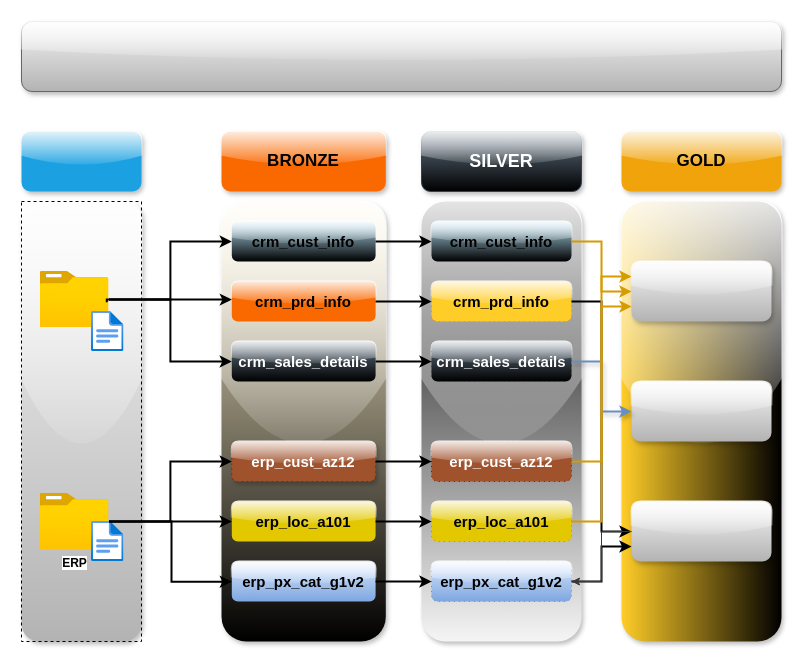
This 805x666 diagram has some shape labels left out. The shapes that lost their labels are listed below. From the top down, each one's centre as x and y in pixels, then its label:
At [402,57]: "DATA FLOW DIAGRAM".
At [82,162]: "SOURCES".
At [74,299]: "CRM".
At [702,292]: "dim_customer_info".
At [702,412]: "fact_sales".
At [702,532]: "dim_product_info".
